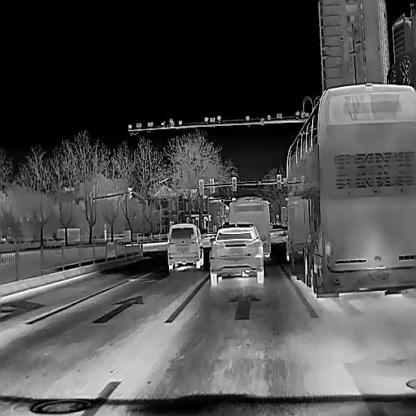car: (284, 83, 415, 300), (209, 225, 263, 284), (229, 198, 270, 259), (167, 222, 203, 269)
